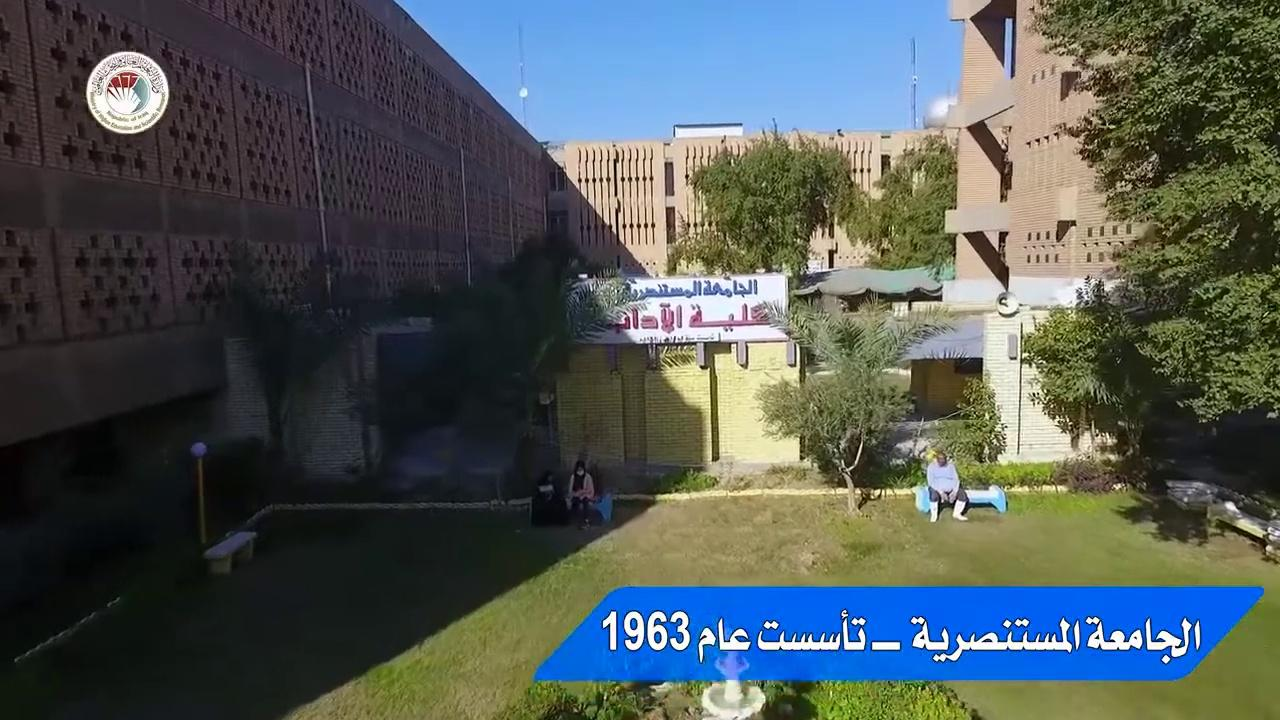fountain: (698, 650, 767, 718)
person: (925, 450, 969, 522), (565, 459, 595, 530), (530, 470, 565, 526)
tree: (1025, 0, 1278, 428), (662, 120, 867, 466), (416, 229, 643, 497), (753, 288, 960, 513), (212, 239, 371, 491), (664, 120, 865, 286), (1019, 272, 1172, 485), (851, 129, 958, 276), (934, 368, 1008, 465)
